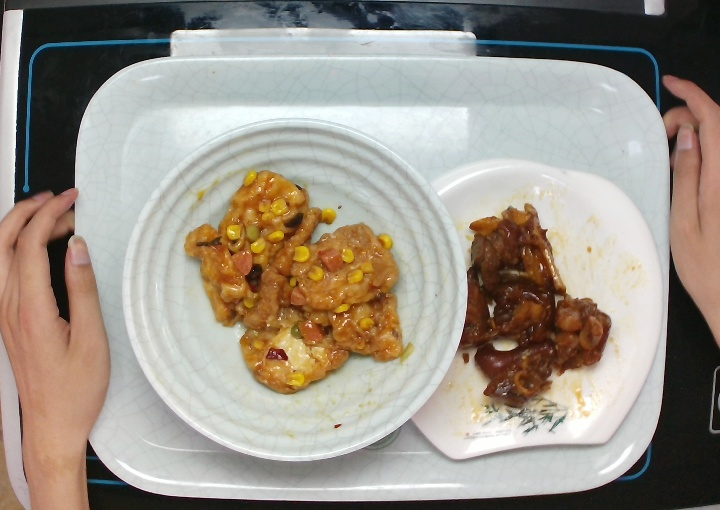JYsf-Da_Tang_Wan: (117, 115, 469, 466)
JYsf-Mian_Pan: (386, 153, 669, 465)
